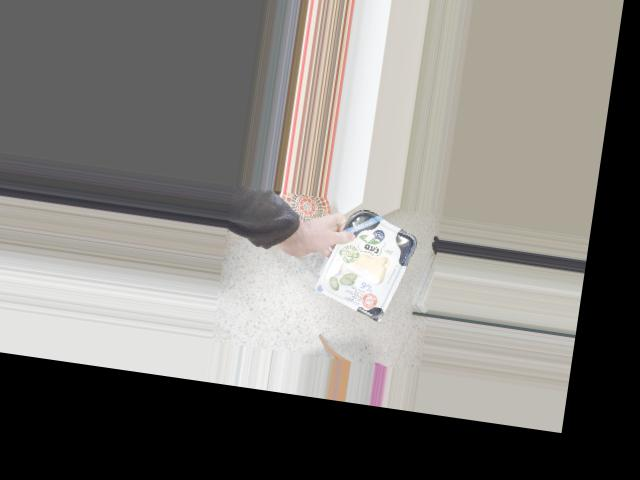cheese: (327, 215, 406, 311)
